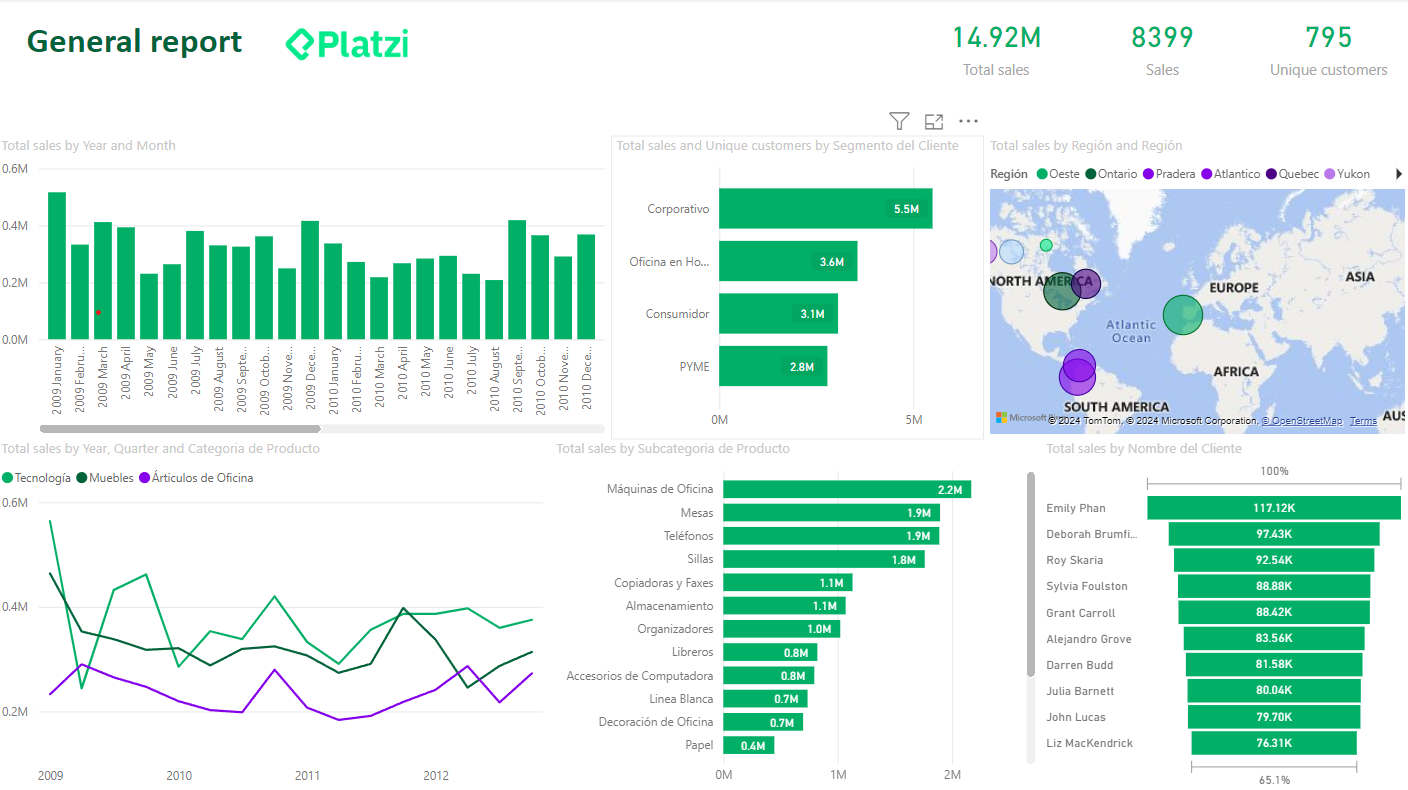

The dashboard page shown, as its layout file describes it:
{"tool":"powerbi","page":{"name":"Report","canvas":[1280,720],"ordinal":0},"visuals":[{"type":"textbox","box":[22.1,14,231.4,50],"z":0},{"type":"clusteredColumnChart","fields":{"Y":["measures_table.Total sales"],"Category":["calendar_table.Date.Variation.Date Hierarchy.Year","calendar_table.Date.Variation.Date Hierarchy.Month"]},"box":[0,124.4,555.8,274.4],"z":1000},{"type":"clusteredBarChart","fields":{"Y":["measures_table.Total sales"],"Category":["Ventas.Segmento del Cliente"]},"box":[555.8,124.4,338.4,274.4],"z":2000},{"type":"map","fields":{"Category":["Region.Región","Region.Provincia"],"Size":["measures_table.Total sales"],"Series":["Region.Región"]},"box":[894.2,124.4,384.9,274.4],"z":3000},{"type":"lineChart","fields":{"Y":["measures_table.Total sales"],"Series":["SKU.Categoria de Producto"],"Category":["calendar_table.Date.Variation.Date Hierarchy.Year","calendar_table.Date.Variation.Date Hierarchy.Quarter"]},"box":[0,399,501.9,321],"z":4000},{"type":"clusteredBarChart","fields":{"Y":["measures_table.Total sales"],"Category":["SKU.Subcategoria de Producto"]},"box":[501.9,399,443.1,321],"z":5000},{"type":"funnel","fields":{"Y":["measures_table.Total sales"],"Category":["Ventas.Nombre del Cliente"]},"box":[944.9,399,335.7,321],"z":6000},{"type":"card","title":"hola","fields":{"Values":["measures_table.Total sales"]},"box":[830,4.5,150,75.6],"z":7000},{"type":"card","fields":{"Values":["measures_table.Sales"]},"box":[980,4.5,150,75.6],"z":8000},{"type":"card","fields":{"Values":["measures_table.Unique customers"]},"box":[1130,4.5,150,75.6],"z":9000},{"type":"image","box":[253.5,22.1,127.9,38.4],"z":10000}]}

Visuals, with their boxes in screenshot pixels (x1, y1, x2, y2), scaled from the page's 1280x720 canvas onto the 1408x790 screenshot:
textbox: box(24, 15, 279, 70)
clusteredColumnChart - measures_table.Total sales x calendar_table.Date.Variation.Date Hierarchy.Year: box(0, 136, 611, 438)
clusteredBarChart - measures_table.Total sales x Ventas.Segmento del Cliente: box(611, 136, 984, 438)
map - Region.Región x Region.Provincia: box(984, 136, 1407, 438)
lineChart - measures_table.Total sales x SKU.Categoria de Producto: box(0, 438, 552, 789)
clusteredBarChart - measures_table.Total sales x SKU.Subcategoria de Producto: box(552, 438, 1040, 789)
funnel - measures_table.Total sales x Ventas.Nombre del Cliente: box(1039, 438, 1407, 789)
"hola" card: box(913, 5, 1078, 88)
card - measures_table.Sales: box(1078, 5, 1243, 88)
card - measures_table.Unique customers: box(1243, 5, 1407, 88)
image: box(279, 24, 420, 66)
